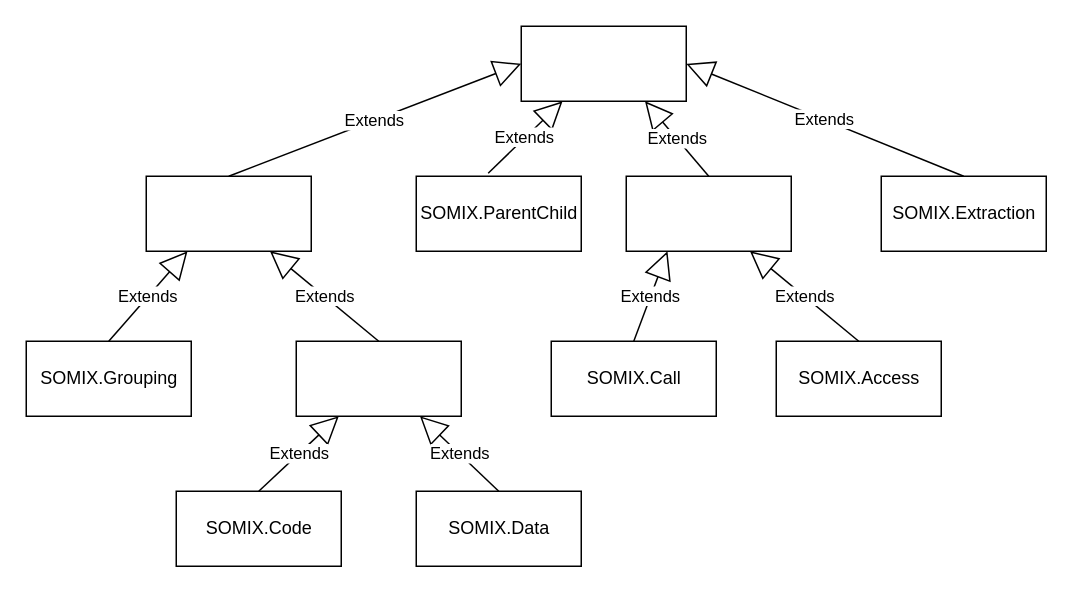
This 1073x593 diagram has some shape labels left out. Each missing label, with the centre of its shape:
SOMIX.Component: [378,378]
SOMIX.Coupling: [708,213]
SOMIX.Element: [228,213]
SOMIX.Entity: [603,63]
